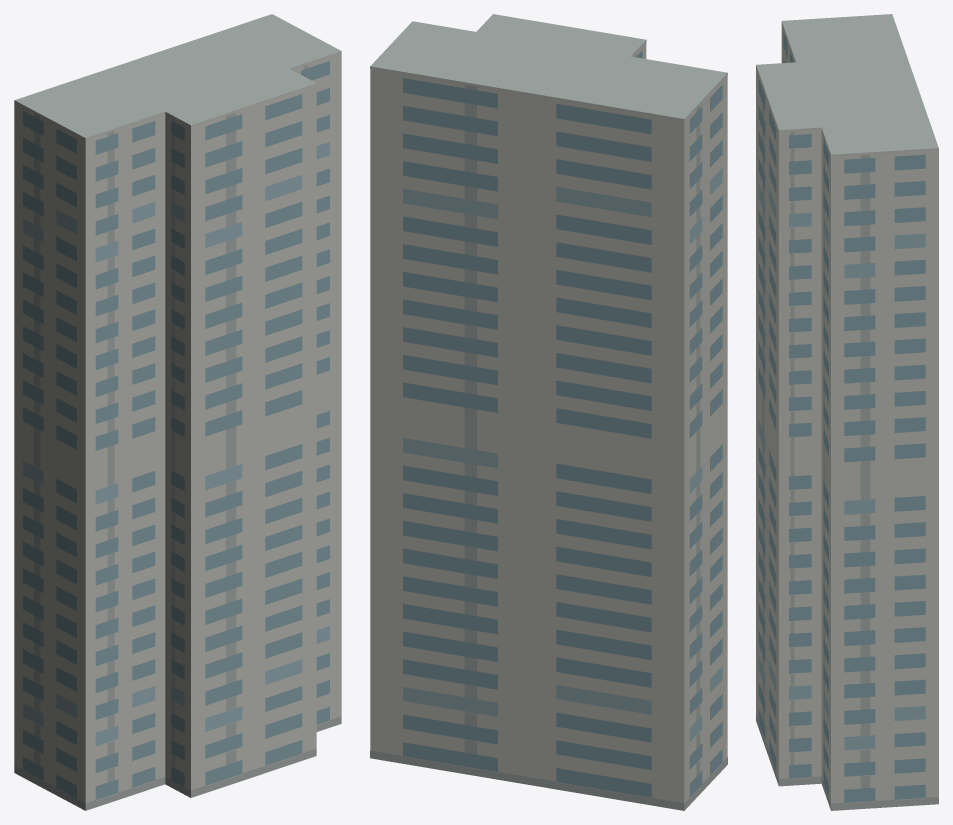
Rendered from residential-caf3ca57-e22a-4f7e-a0d2-fdea84e9c1ad.glb.
3 views of the same model, side by side, from view 1: azimuth 30°, elevation 25°; view 2: azimuth 150°, elevation 25°; view 3: azimuth 270°, elevation 25° (orthographic). The views are drawn at different scales.
Visible parts, largest first — view 1: residential-caf3ca57-e22a-4f7e-a0d2-fdea84e9c1ad.tmp; view 2: residential-caf3ca57-e22a-4f7e-a0d2-fdea84e9c1ad.tmp; view 3: residential-caf3ca57-e22a-4f7e-a0d2-fdea84e9c1ad.tmp.
Part boxes in pixels (x1,y1,x2,y2): residential-caf3ca57-e22a-4f7e-a0d2-fdea84e9c1ad.tmp: (14,14,341,810); residential-caf3ca57-e22a-4f7e-a0d2-fdea84e9c1ad.tmp: (370,14,727,810); residential-caf3ca57-e22a-4f7e-a0d2-fdea84e9c1ad.tmp: (756,14,938,810).
Size of the model in its own units: 31.75 by 69 by 17.43.
